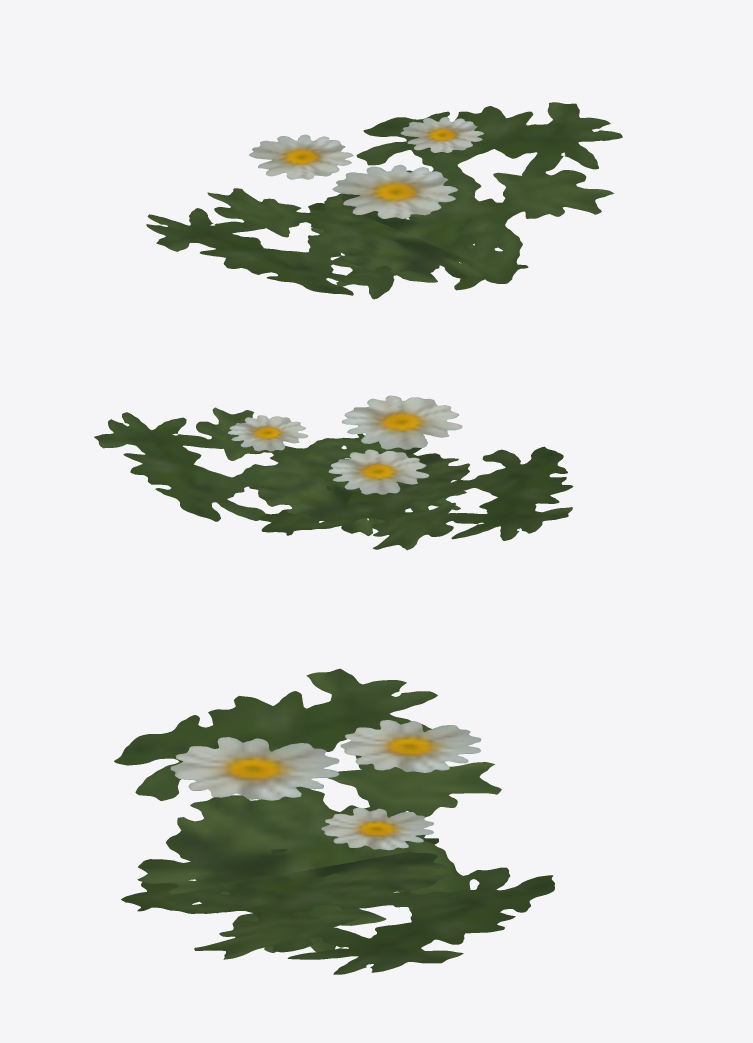
The model's file is Grass_B_3.fbx.
3 views of the same model, one above another, from view 1: azimuth 30°, elevation 25°; view 2: azimuth 150°, elevation 25°; view 3: azimuth 270°, elevation 25° (orthographic). The views are drawn at different scales.
Visible parts, largest first — view 1: Grass_B_3__32_; view 2: Grass_B_3__32_; view 3: Grass_B_3__32_.
Boxes of the visible parts, x1,y1,x2,y2 form: Grass_B_3__32_: (146,102,622,299); Grass_B_3__32_: (94,395,573,550); Grass_B_3__32_: (114,668,554,974).
Bounding box in the file's own units: 0.2346 × 0.0295 × 0.1709.
